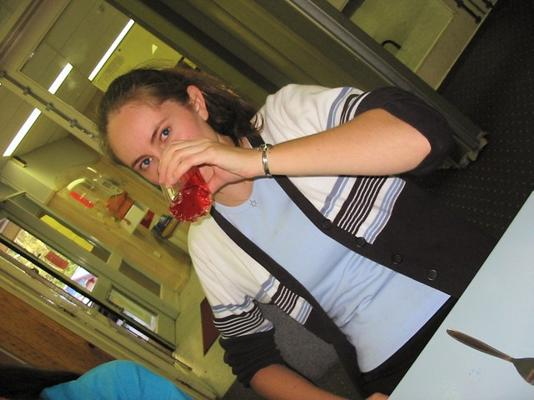person: (94, 59, 500, 400)
